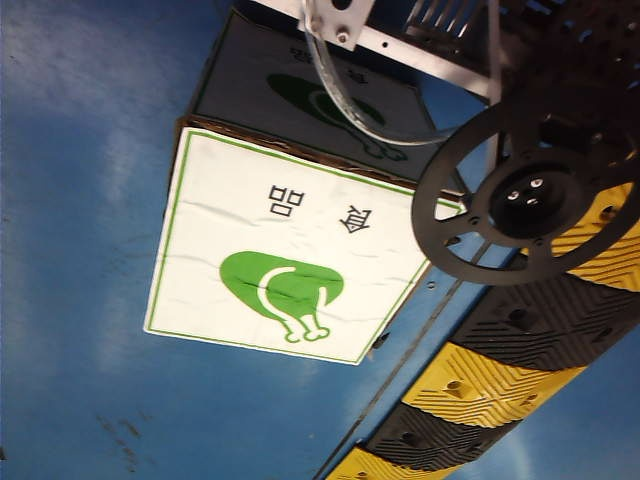Cube_food: (208, 178, 395, 350)
